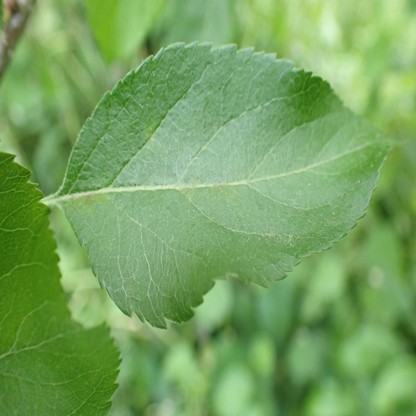powdery_mildew: (262, 231, 298, 249)
scab: (77, 194, 96, 211), (213, 183, 232, 198), (181, 183, 195, 198)
